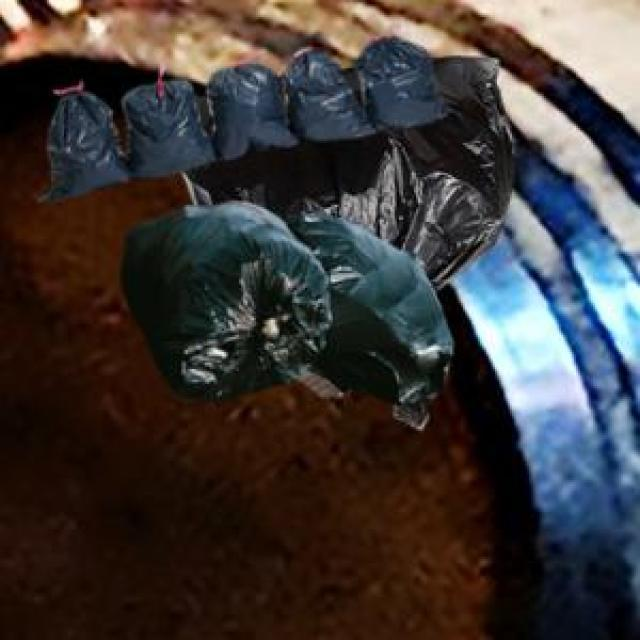waste: (46, 38, 512, 428)
